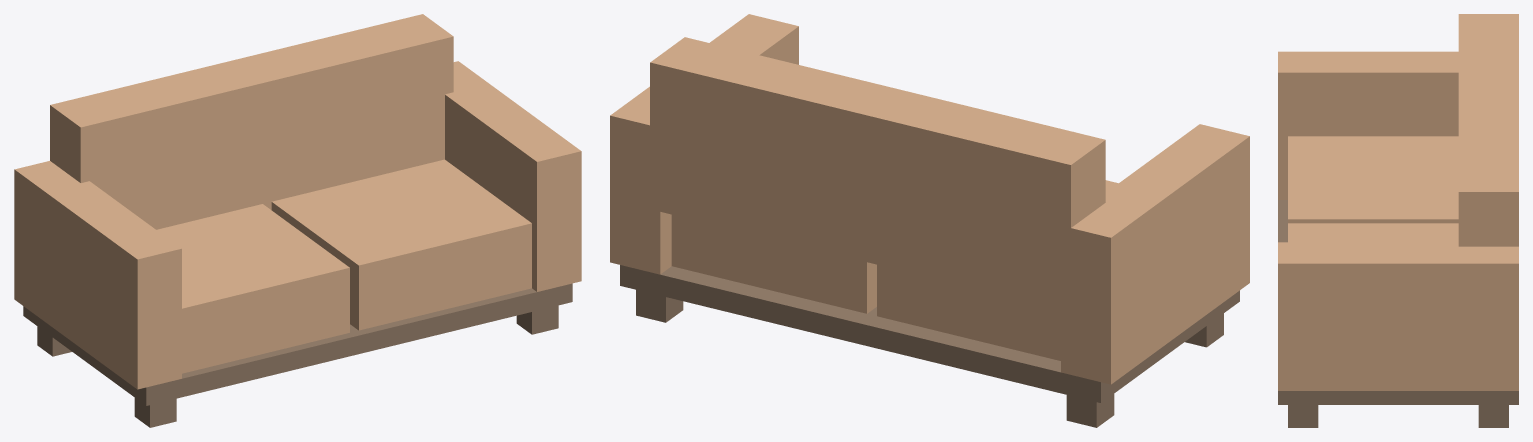
Rendered from loungeSofa.glb.
3 renders of one model, left to right at view 1: azimuth 30°, elevation 25°; view 2: azimuth 150°, elevation 25°; view 3: azimuth 270°, elevation 25°, orthographic. The views are drawn at different scales.
Parts seen in each view (by area): view 1: loungeSofa; view 2: loungeSofa; view 3: loungeSofa.
Part boxes in pixels (x1,y1,x2,y2): loungeSofa: [14, 14, 581, 427]; loungeSofa: [610, 14, 1249, 427]; loungeSofa: [1278, 14, 1518, 427].
Bounding box in the file's own units: 1 × 0.5 × 0.48.
